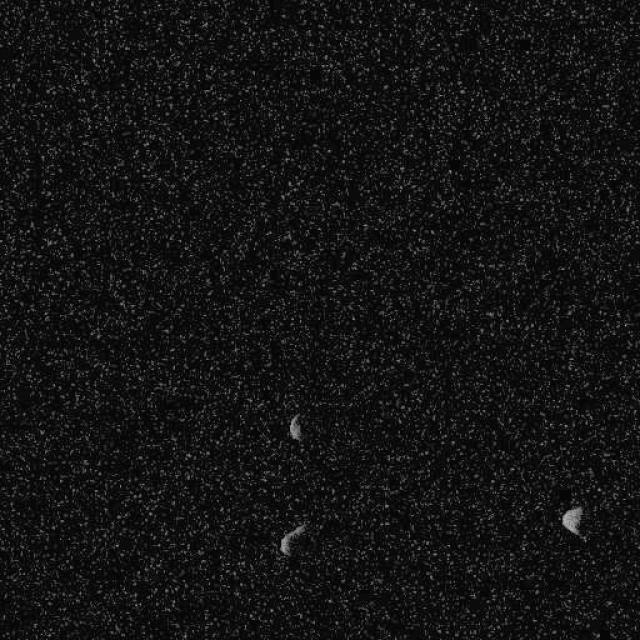D2: (278, 522, 308, 558), (560, 505, 584, 537), (288, 412, 304, 442)
